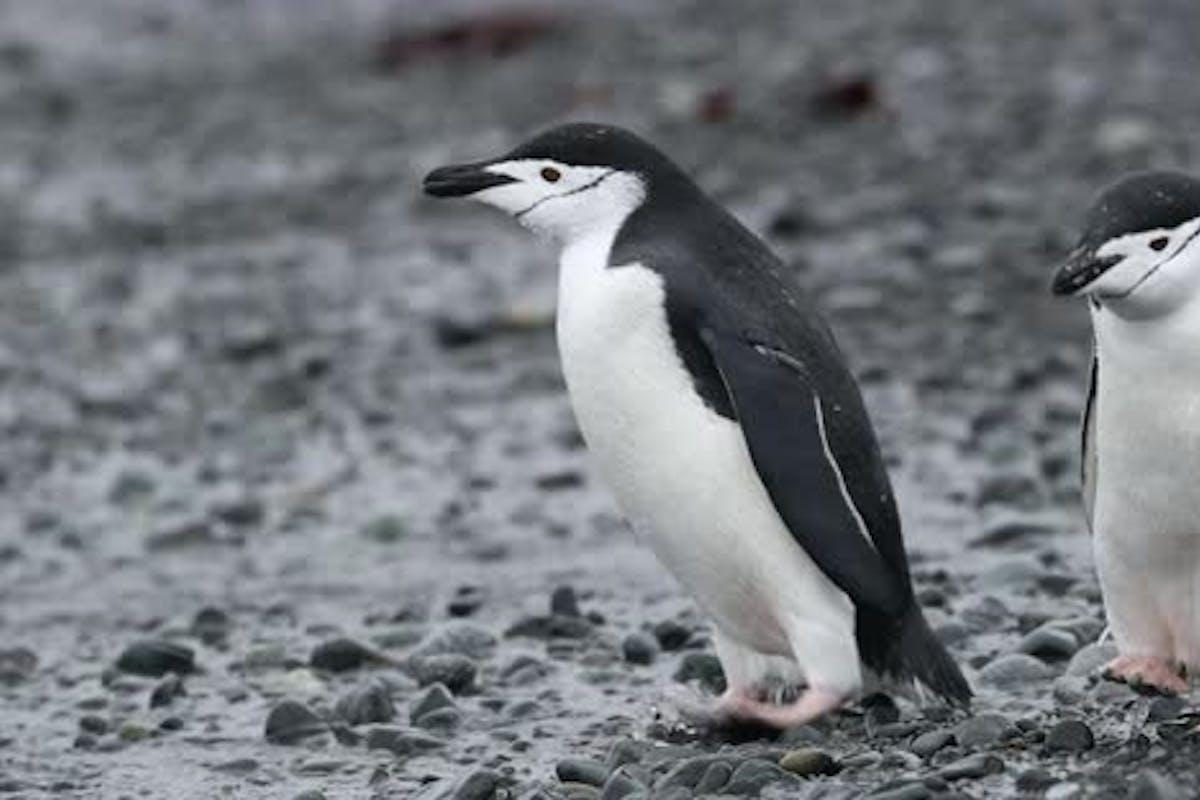chinstrap: (412, 99, 985, 758)
